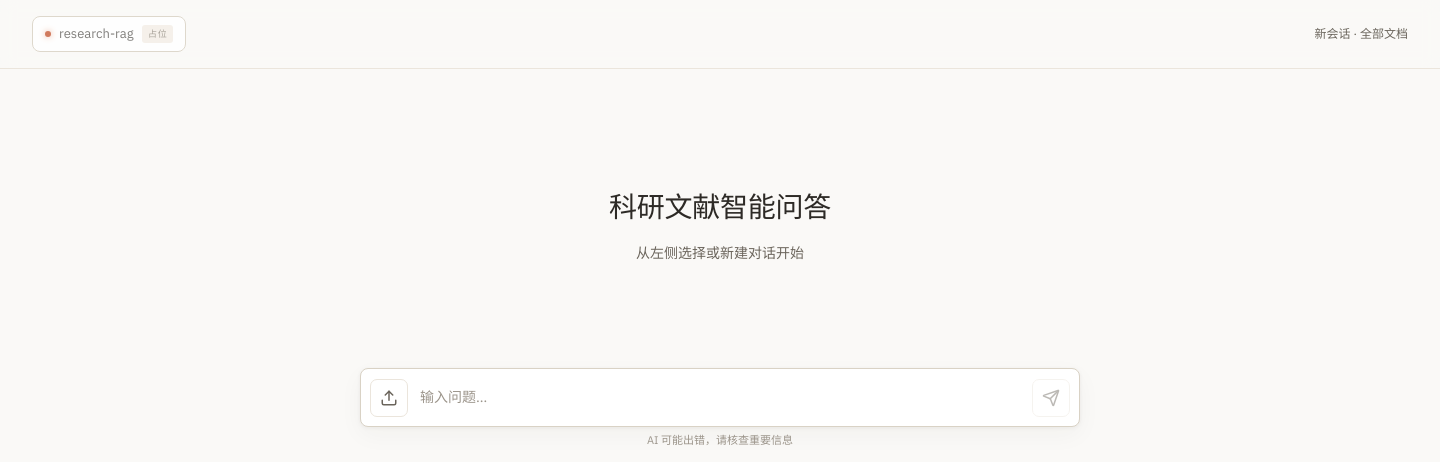
ChatArea › 停止生成会中止请求、移除未完成 Turn 并还原问题
Type "请详细解释方法" into the text box named "问题输入" at coordinates (720, 397), box top-left (416, 378), bottom-right (1024, 416)
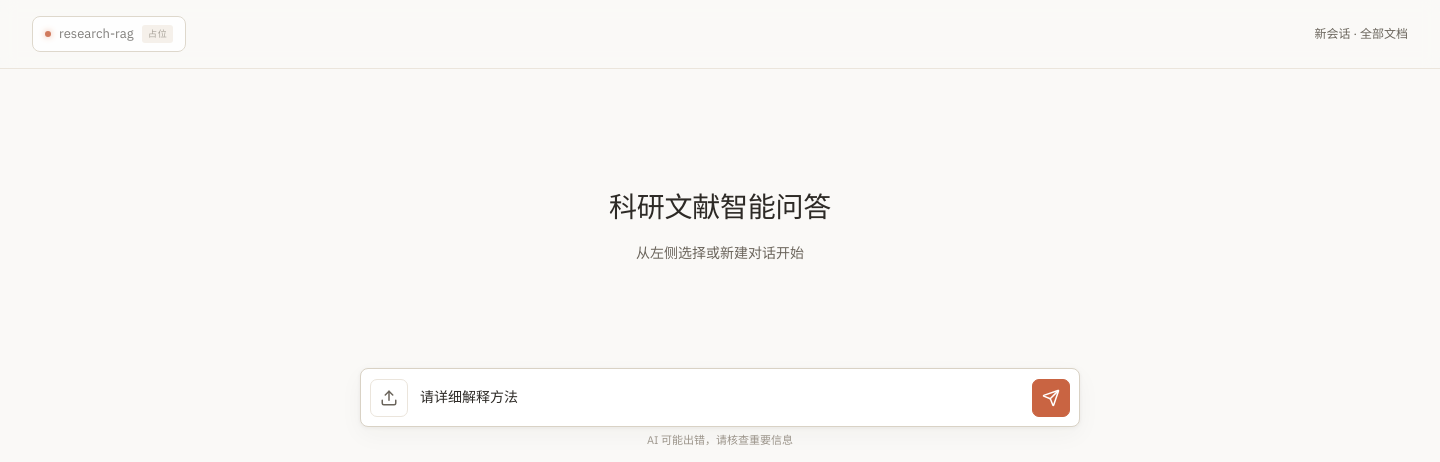
Press Enter in the text box named "问题输入", box top-left (416, 378), bottom-right (1024, 416)
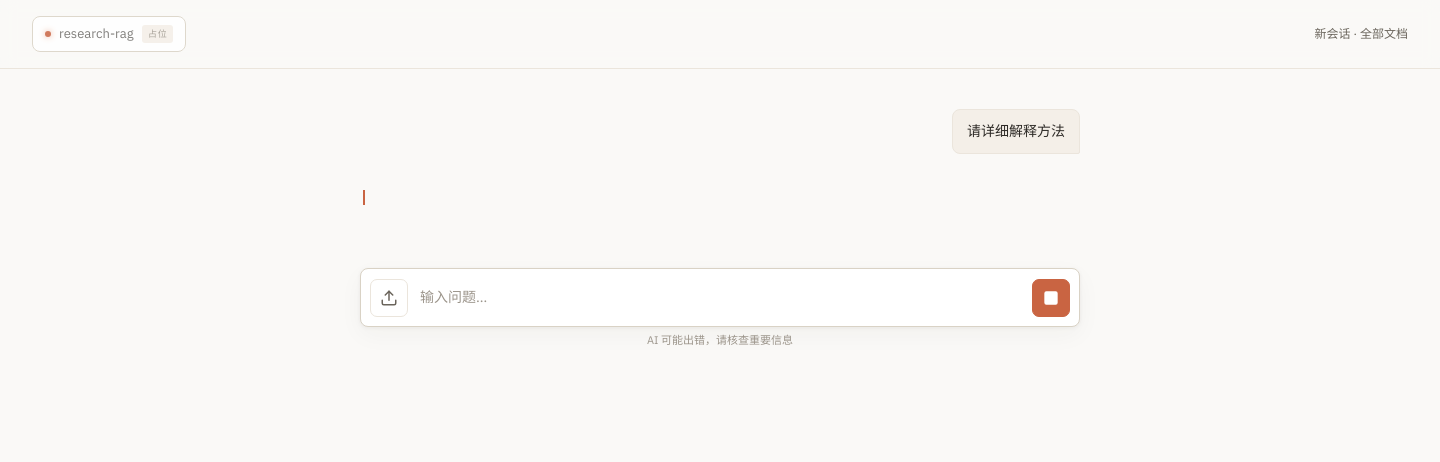
Result: the text "请详细解释方法" is shown at top-left (952, 108), bottom-right (1080, 154)
Click the button named "停止生成" at coordinates (1051, 298), box top-left (1032, 279), bottom-right (1070, 317)
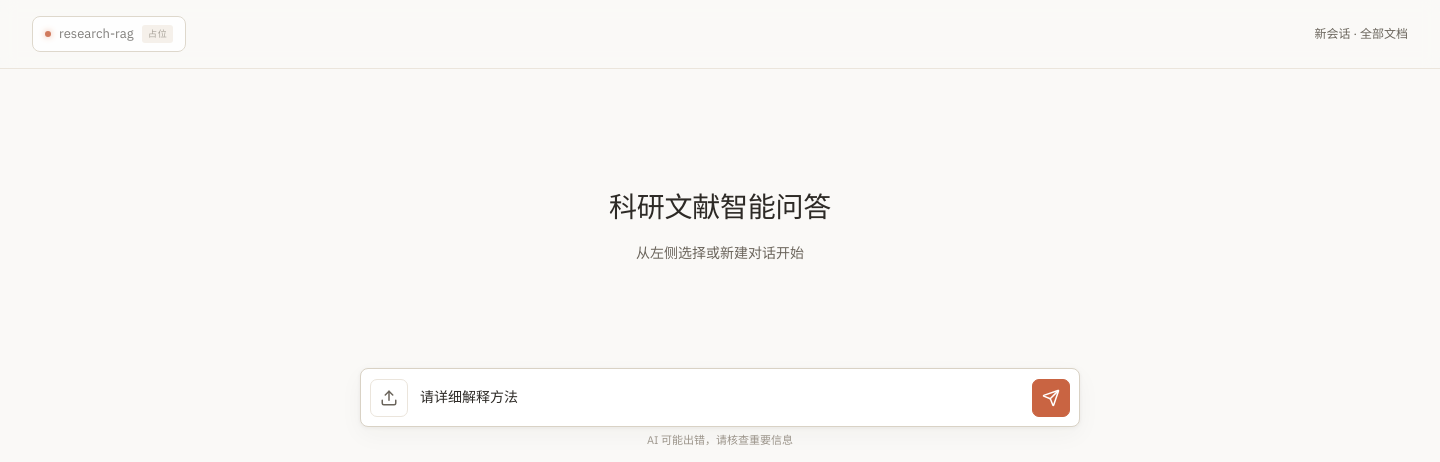
Result: the text box showing "请详细解释方法" is enabled at top-left (416, 378), bottom-right (1024, 416)
Result: the element with class "user" is gone
